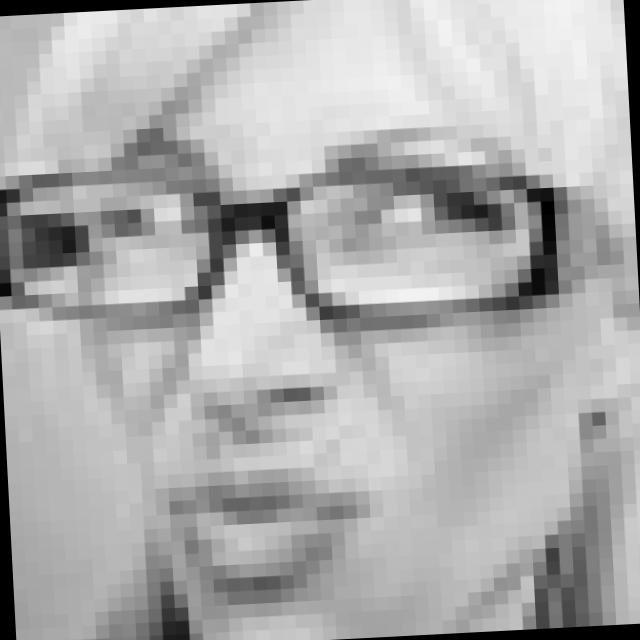disgust: (83, 113, 538, 612)
